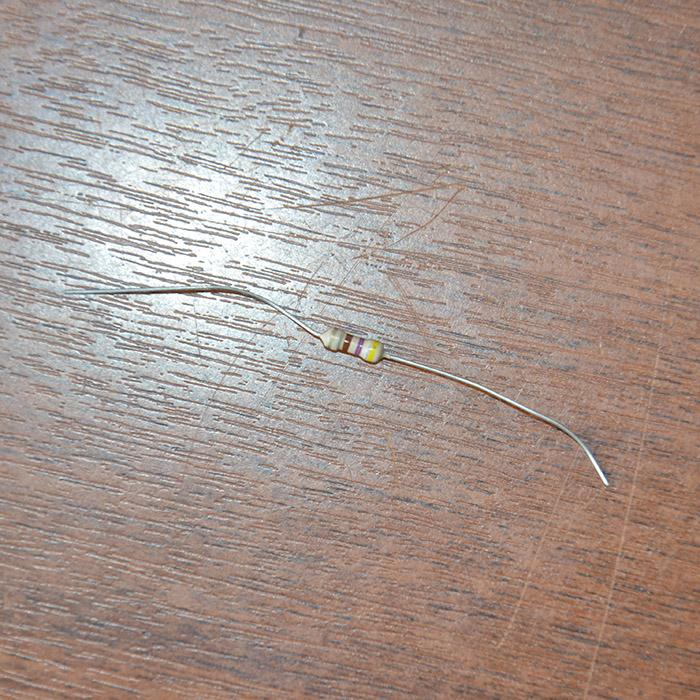resistor: (320, 326, 384, 364)
